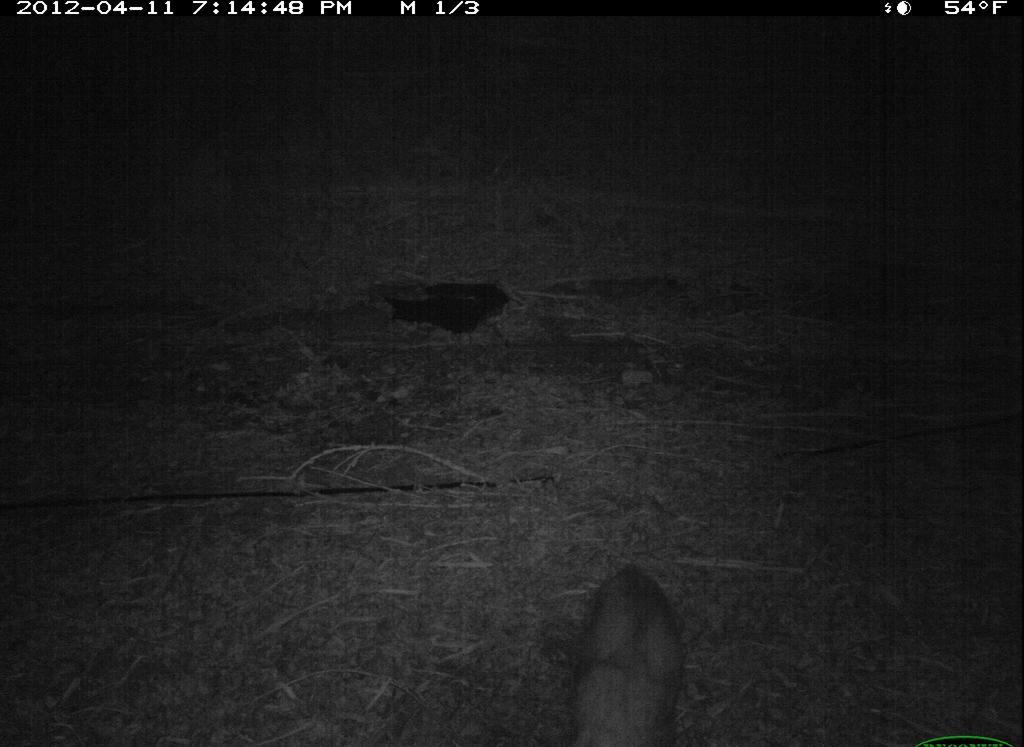coyote: (560, 559, 697, 747)
